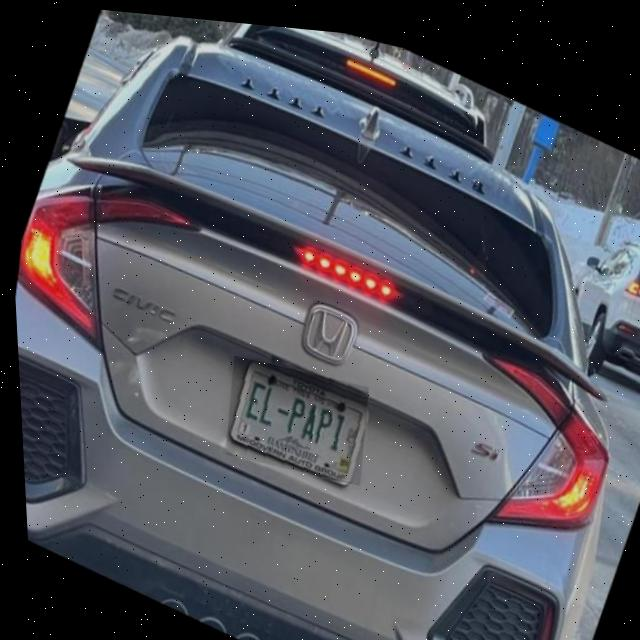LicensePlate: (222, 354, 363, 477)
